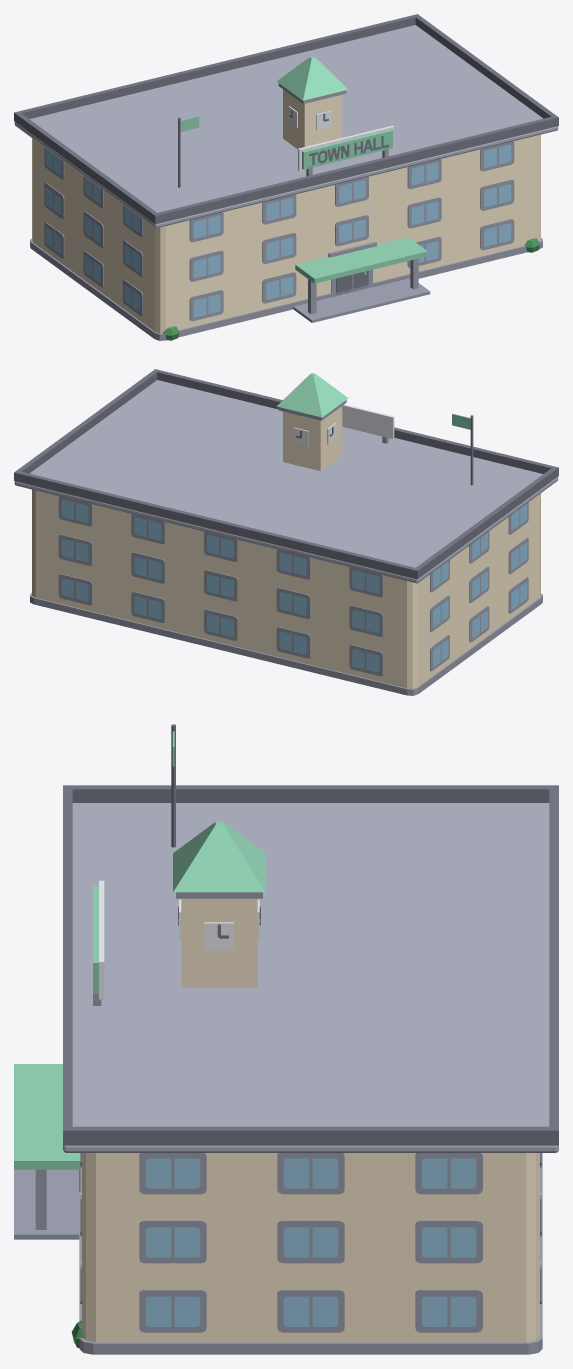
Rendered from town-hall-3x2-3f.glb.
3 renders of one model, top to bottom at view 1: azimuth 30°, elevation 25°; view 2: azimuth 150°, elevation 25°; view 3: azimuth 270°, elevation 25°, orthographic. The views are drawn at different scales.
Visible parts, largest first — view 1: town-hall-3x2-3f; view 2: town-hall-3x2-3f; view 3: town-hall-3x2-3f.
Boxes of the visible parts, <box> form: town-hall-3x2-3f: <box>14,14,558,340</box>; town-hall-3x2-3f: <box>14,369,558,695</box>; town-hall-3x2-3f: <box>14,724,558,1354</box>.
Bounding box in the file's own units: 3 × 1.48 × 2.
Materials: 1 (1 with a texture image).
